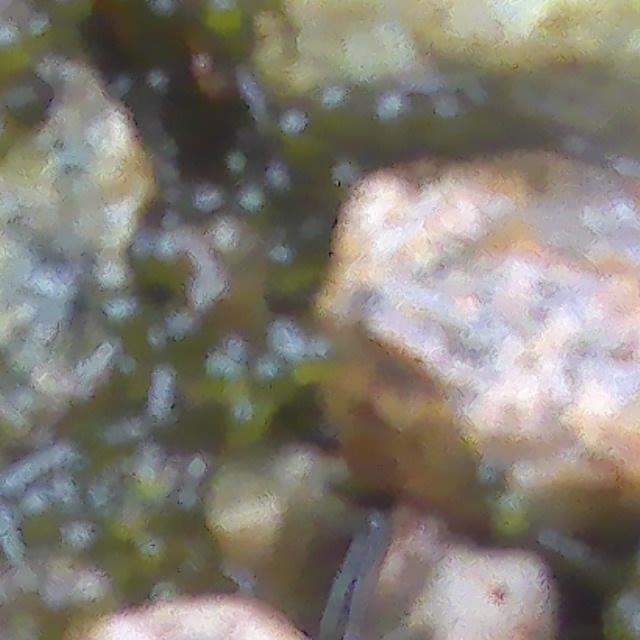SeaGrape: (0, 75, 52, 123), (83, 111, 131, 160), (0, 20, 36, 69)
